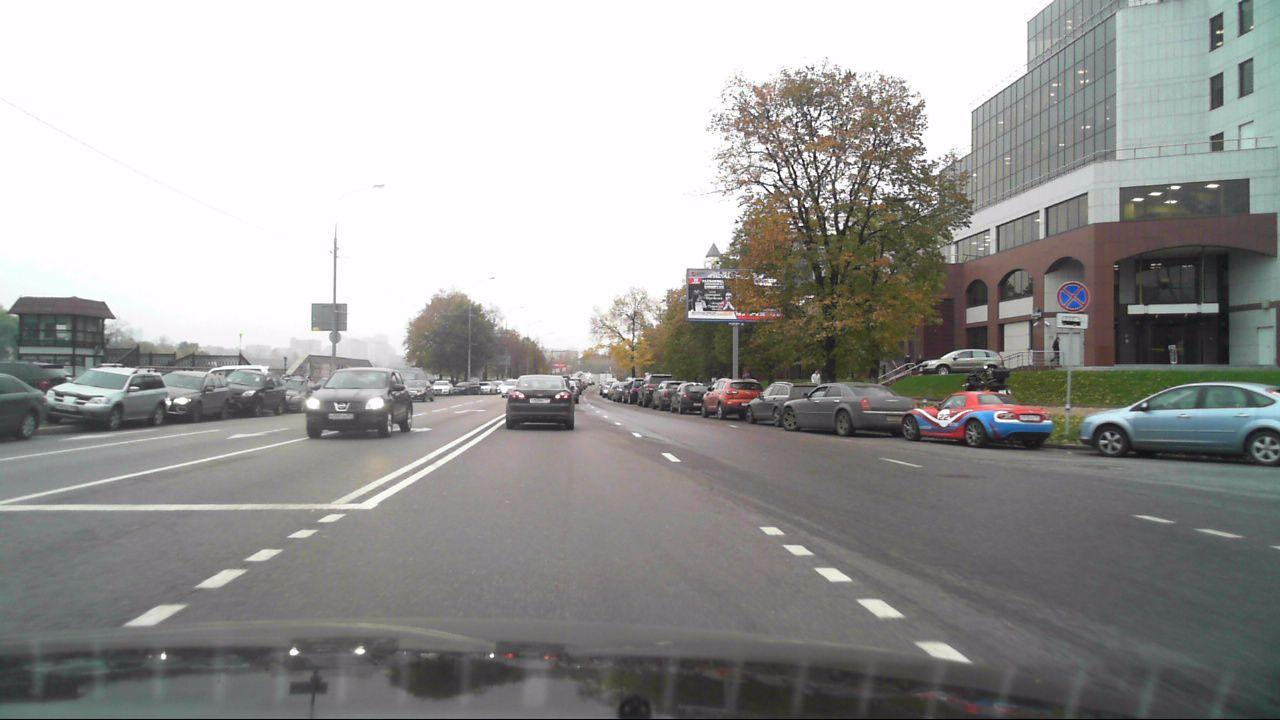3_27: (1056, 280, 1088, 310)
8_4_4: (1055, 311, 1088, 328)
